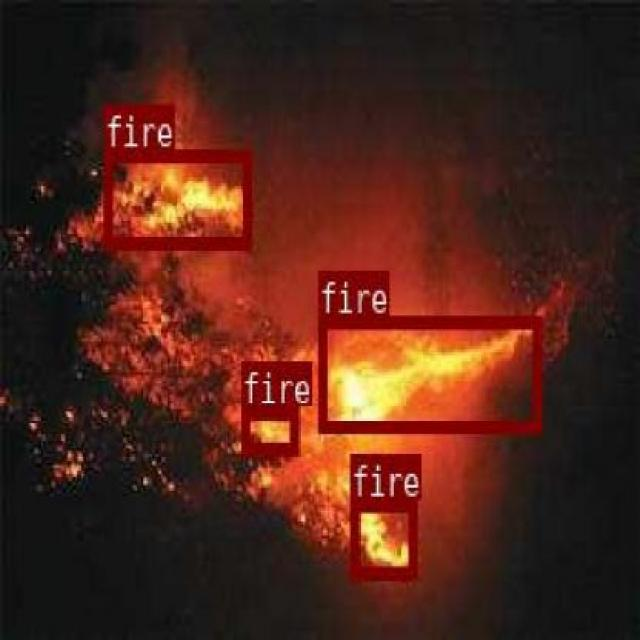Fire: (318, 314, 540, 430), (102, 148, 250, 246), (348, 498, 416, 578), (238, 404, 297, 452)
